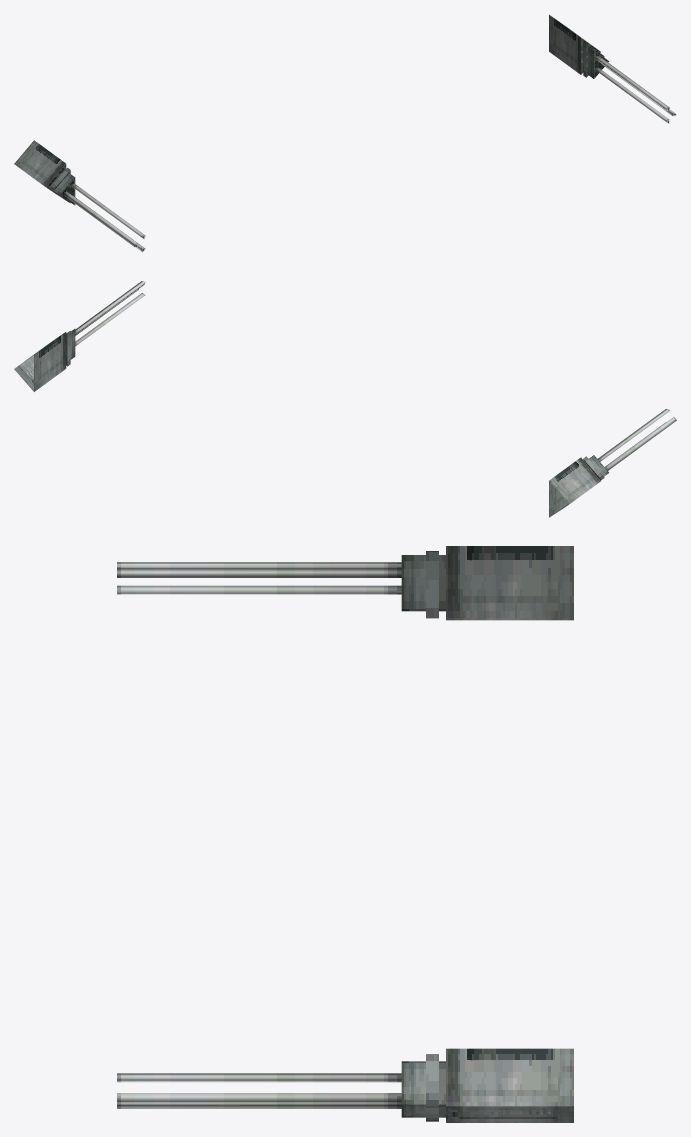
Rendered from black_sun_fighter_light_weapon_s04_l2.fbx.
The picture shows the model from 3 angles, top to bottom: view 1: azimuth 30°, elevation 25°; view 2: azimuth 150°, elevation 25°; view 3: azimuth 270°, elevation 25°; orthographic projection. The views are drawn at different scales.
Visible parts, largest first — view 1: mesh_node; view 2: mesh_node; view 3: mesh_node.
Boxes of the visible parts, x1,y1,x2,y2 form: mesh_node: (14,14,676,252); mesh_node: (14,281,676,517); mesh_node: (117,546,573,1122).
Bounding box in the file's own units: 11.7 × 0.7491 × 4.17.
Materials: 1 (1 with a texture image).
